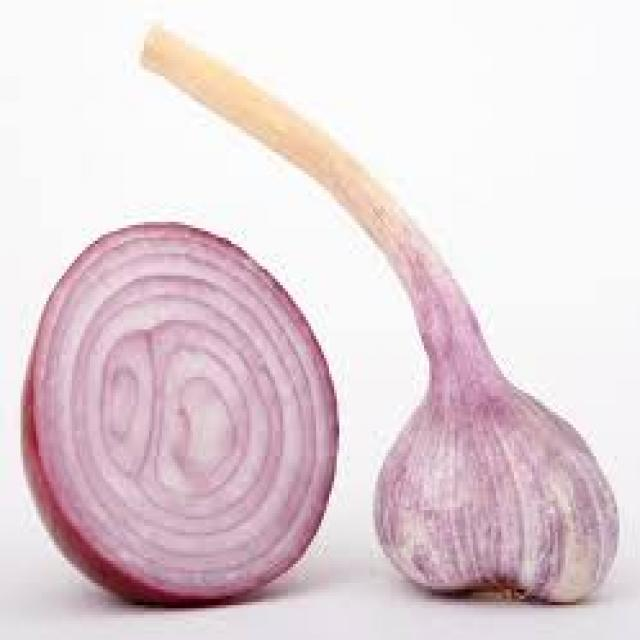organic waste: (136, 22, 617, 602), (18, 222, 337, 605)
